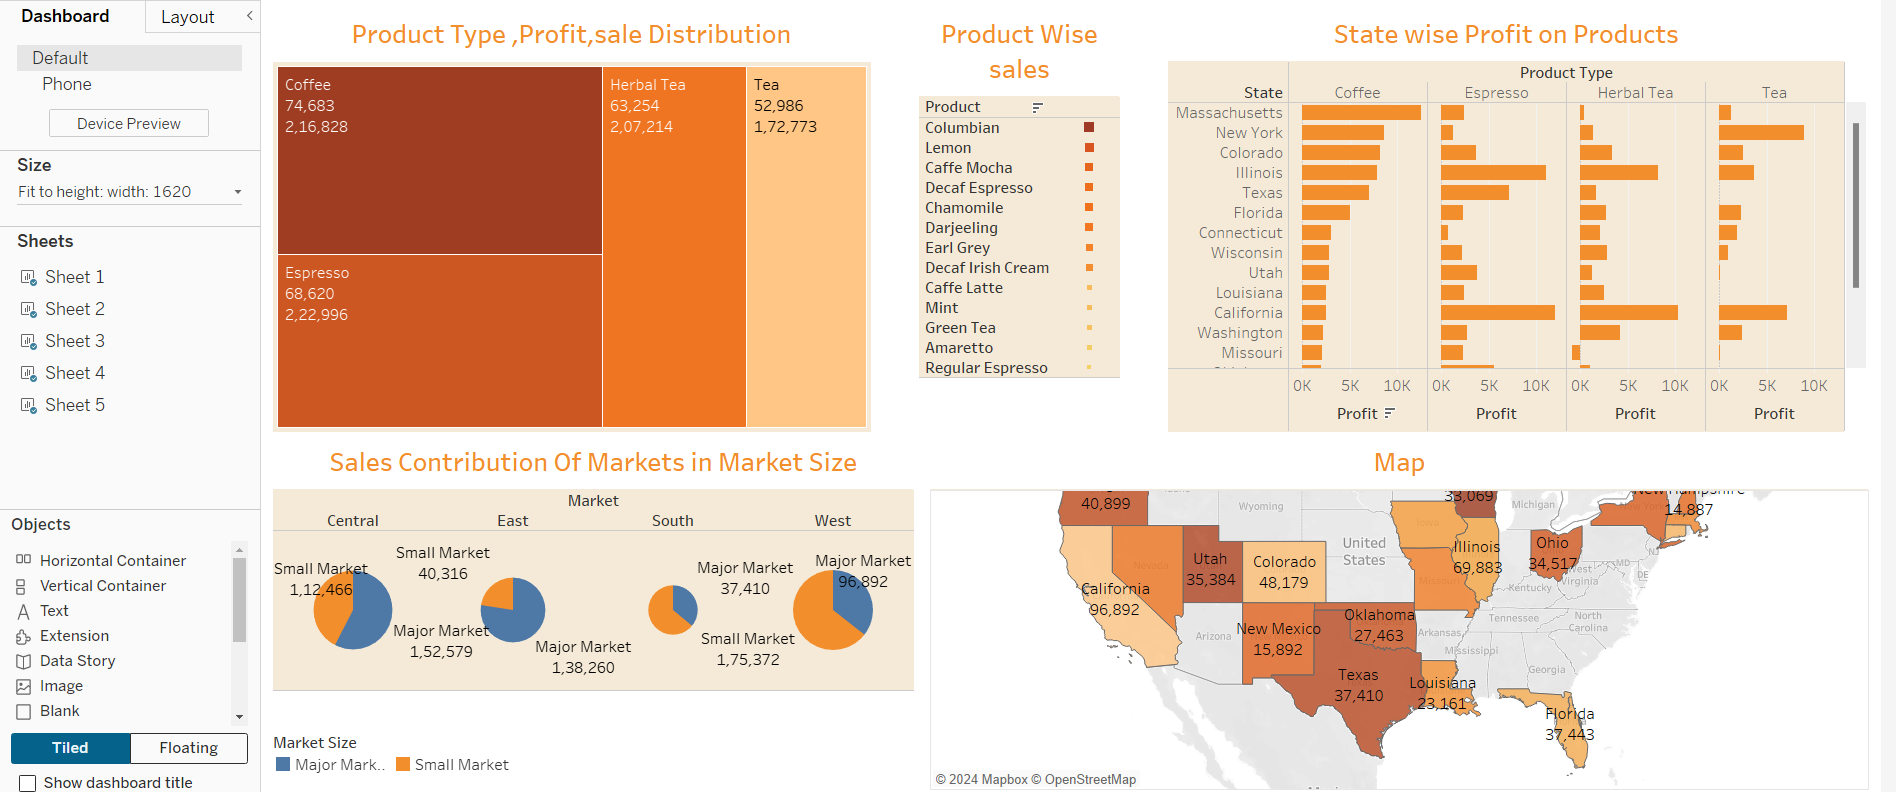

The dashboard page shown, as its layout file describes it:
{"tool":"tableau","page":{"name":"Dashboard 1","canvas":[1000,1000],"units":"permille","ordinal":0},"visuals":[{"type":"worksheet","title":"Sheet 2","mark":"Automatic","box":[4.9,10,398.8,533.7]},{"type":"worksheet","title":"Sheet 3","mark":"Automatic","rows":["Product"],"box":[403.7,10,153.7,533.7]},{"type":"worksheet","title":"Sheet 4","mark":"Automatic","rows":["State"],"cols":["Product Type","Profit"],"box":[557.4,10,437.7,533.7]},{"type":"worksheet","title":"Sheet 1","mark":"Pie","cols":["Market"],"box":[4.9,543.6,405.6,364.1]},{"type":"worksheet","title":"Sheet 5","mark":"Multipolygon","box":[410.5,543.6,584.6,446.4]},{"type":"legend","title":"Sheet 1","param":"[federated.0anuycx0qmukgd1gmhqt205rxxr8].[none:Market Size:nk]","box":[4.9,907.7,405.6,82.3]}]}

Visuals, with their boxes on the dashboard's canvas, which has no fixed pixel size, in thousandths of its width and height (x1, y1, x2, y2). These are canvas units, not pixel positions in the 1896x792 screenshot, which may show the page scaled, cropped or inside an application window:
"Sheet 2" worksheet: rect(5, 10, 404, 544)
"Sheet 3" worksheet: rect(404, 10, 557, 544)
"Sheet 4" worksheet: rect(557, 10, 995, 544)
"Sheet 1" worksheet (Pie marks): rect(5, 544, 410, 908)
"Sheet 5" worksheet (Multipolygon marks): rect(410, 544, 995, 990)
"Sheet 1" legend: rect(5, 908, 410, 990)
